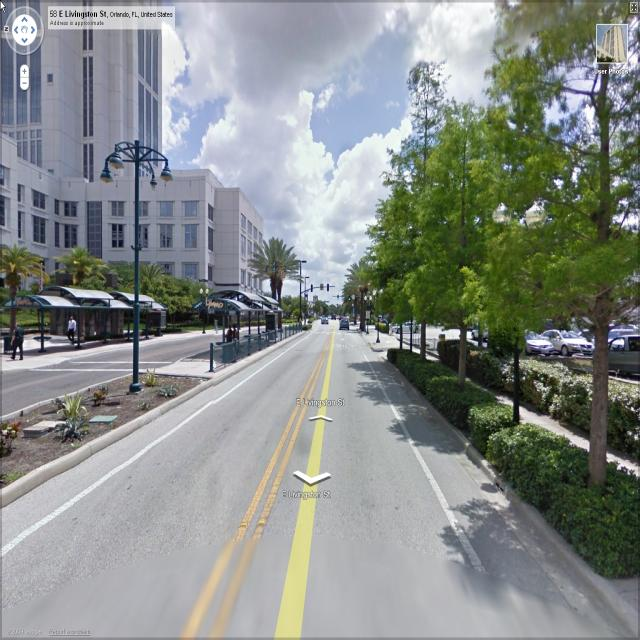b_1: (1, 169, 274, 282), (0, 2, 186, 151)
b_2: (2, 153, 272, 335)
